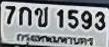letters: (34, 6, 49, 28), (18, 6, 33, 27), (80, 9, 93, 31), (5, 5, 17, 26), (67, 9, 79, 30), (94, 11, 106, 31), (56, 9, 65, 29)
province: (16, 32, 94, 47)
